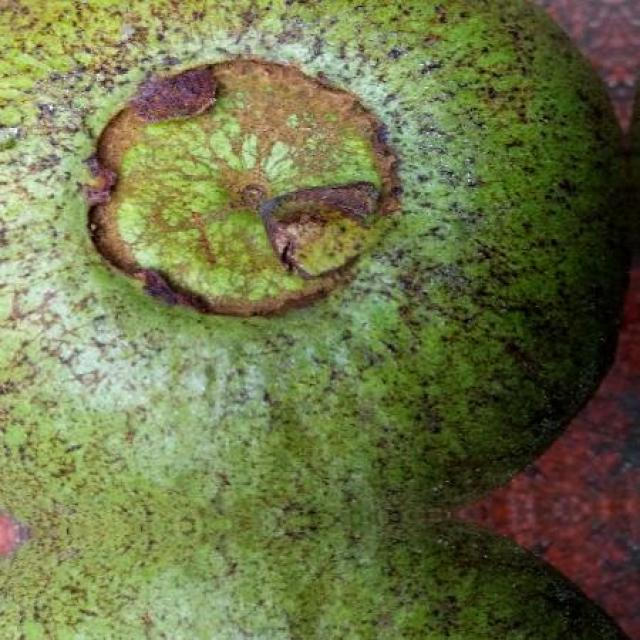Scab: (0, 0, 624, 572)
